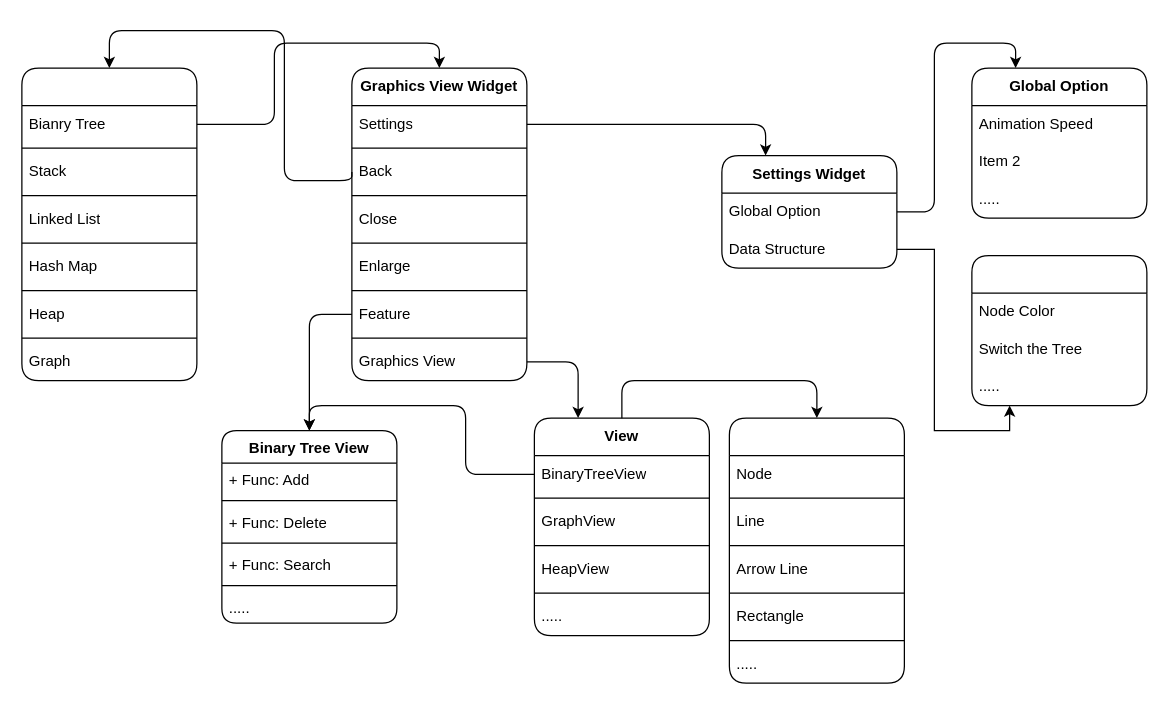
This 1169x705 diagram has some shape labels left out. The box of each missing label's shape, as (x1, y1, x2, y2) in pixels:
Data Structure (Tree): (971, 254, 1147, 406)
Item: (728, 417, 904, 683)
MainWindow: (21, 67, 197, 381)
